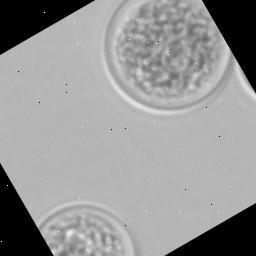picoshell: (101, 0, 239, 115), (35, 203, 137, 256), (235, 62, 256, 103)
